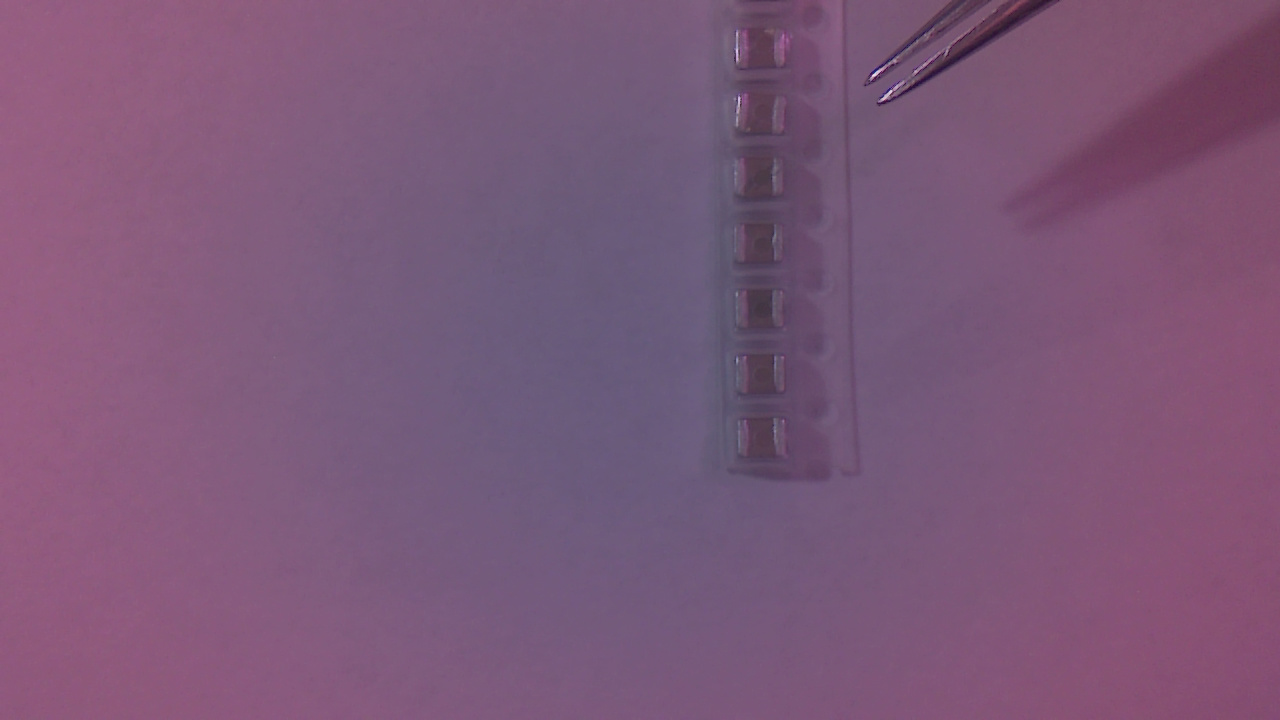Condensator: (740, 354, 794, 404), (738, 30, 795, 76), (741, 420, 792, 470), (740, 97, 795, 143), (741, 225, 789, 274), (741, 289, 793, 331), (739, 160, 787, 204)
